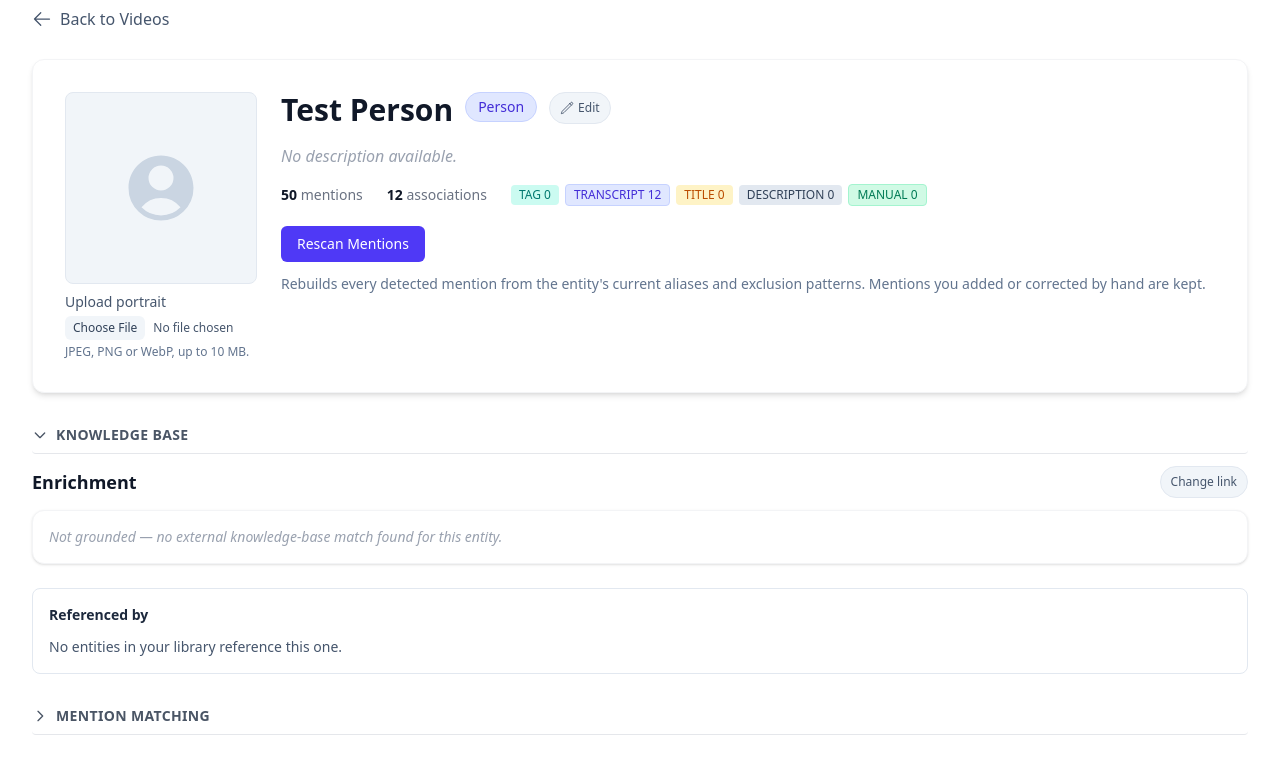
EntityDetailPage — alias name/type edit (#289) › shows the accents-and-case-ignored message on a 409 rename collision, and keeps the editor open
Click the button "Mention matching": (133, 716) [32,698,1248,735]
(page scrolled)
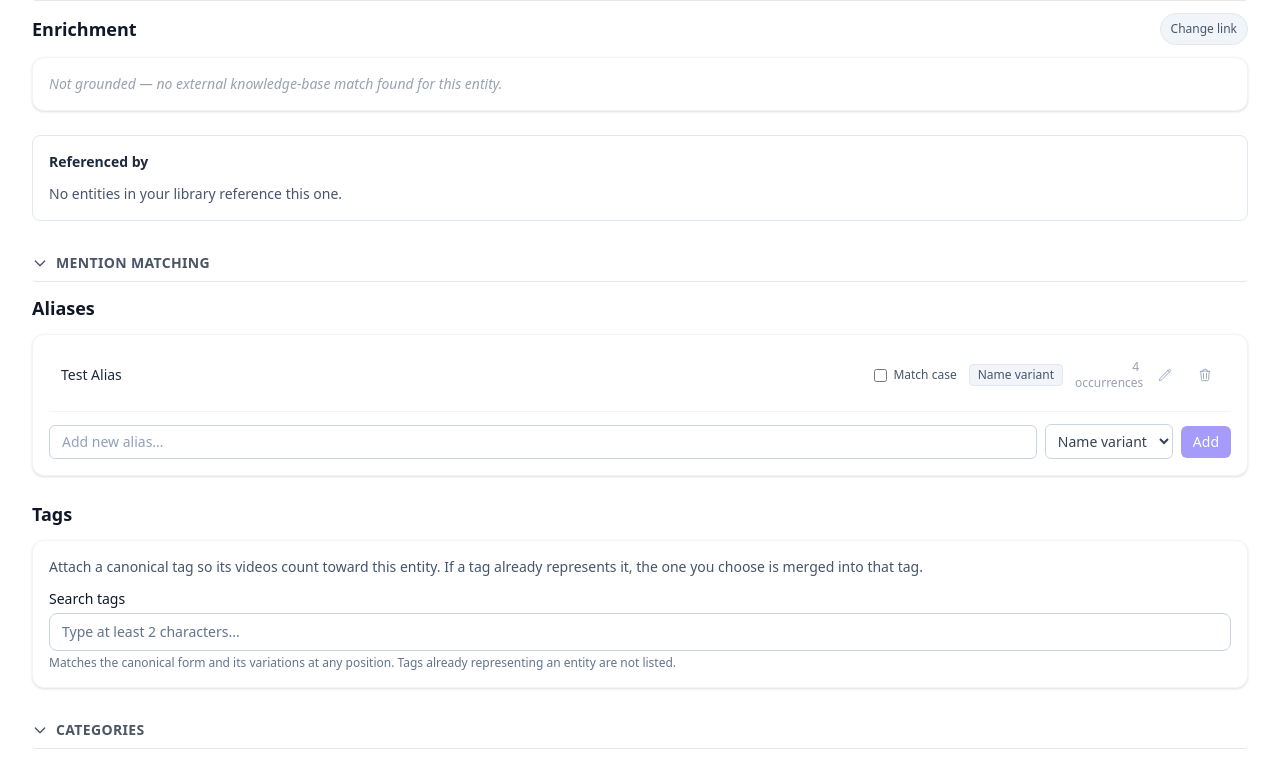
Click the button named "edit alias \"test alias\"": (1165, 375) [1151,361,1179,389]
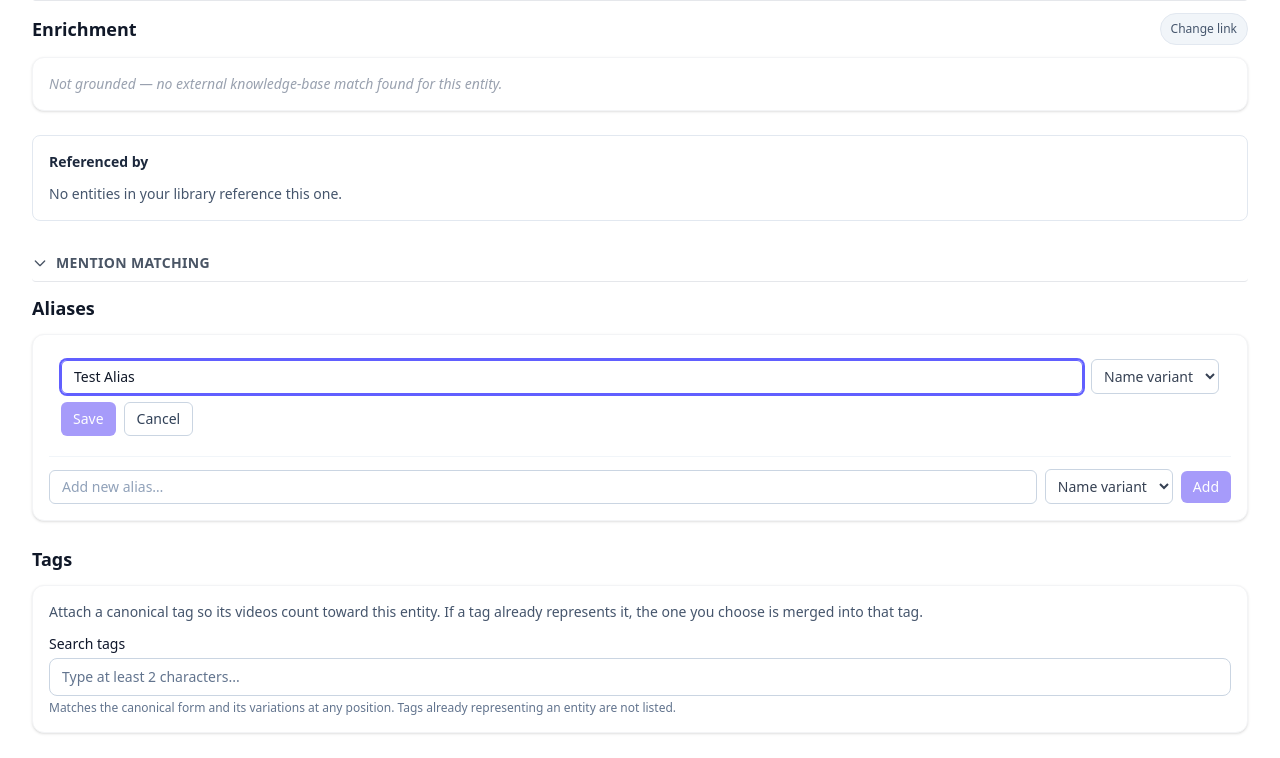
Replace the text in the field named "alias name for \"test alias\"" with "Renamed Alias": (572, 376) [61,360,1083,394]
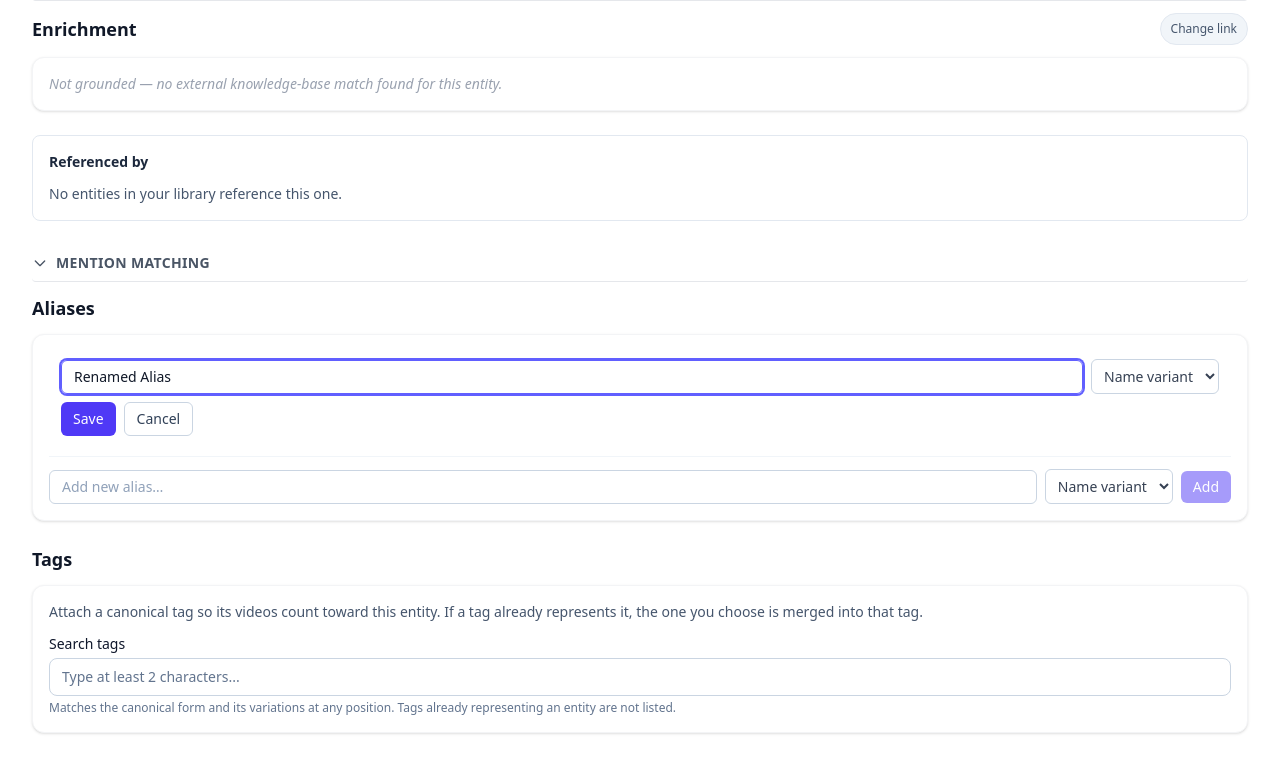
Click the button "Save": (88, 419) [61,402,116,436]
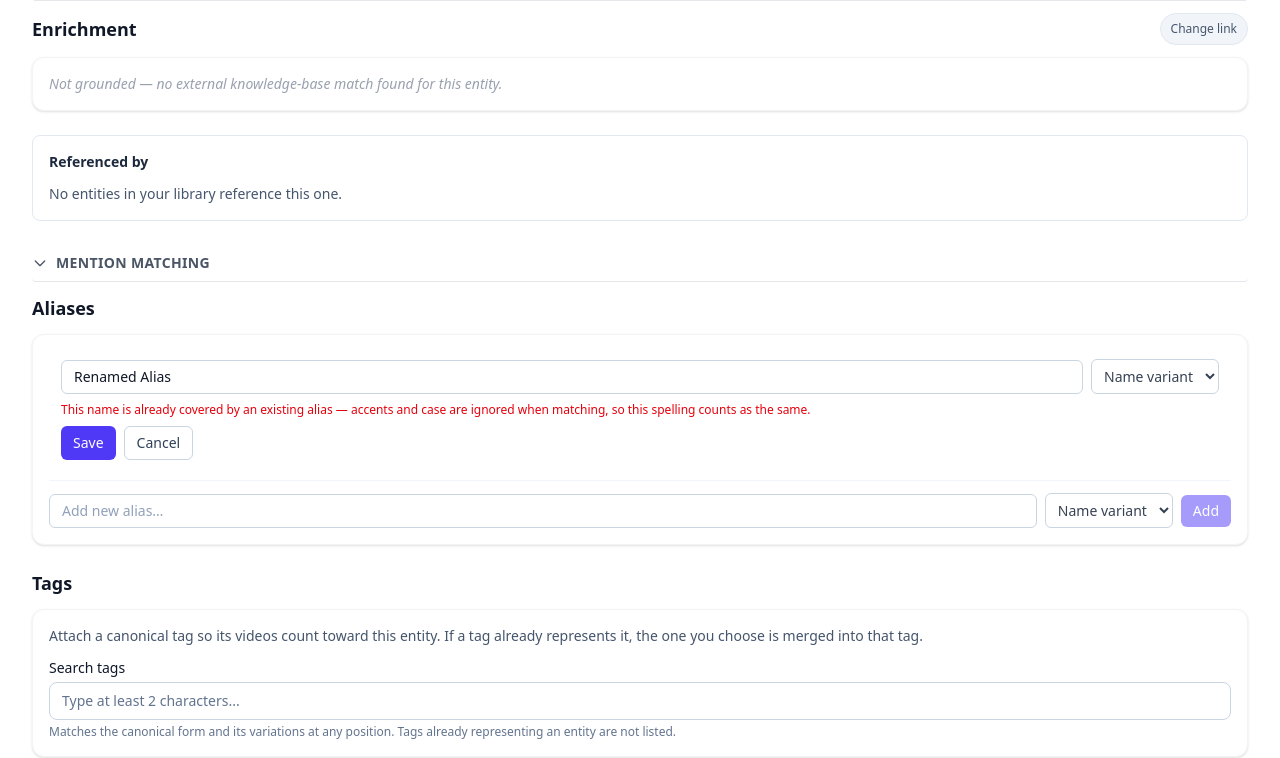
Now the 2nd message shows "already covered by an existing alias", box [61,401,811,418]
